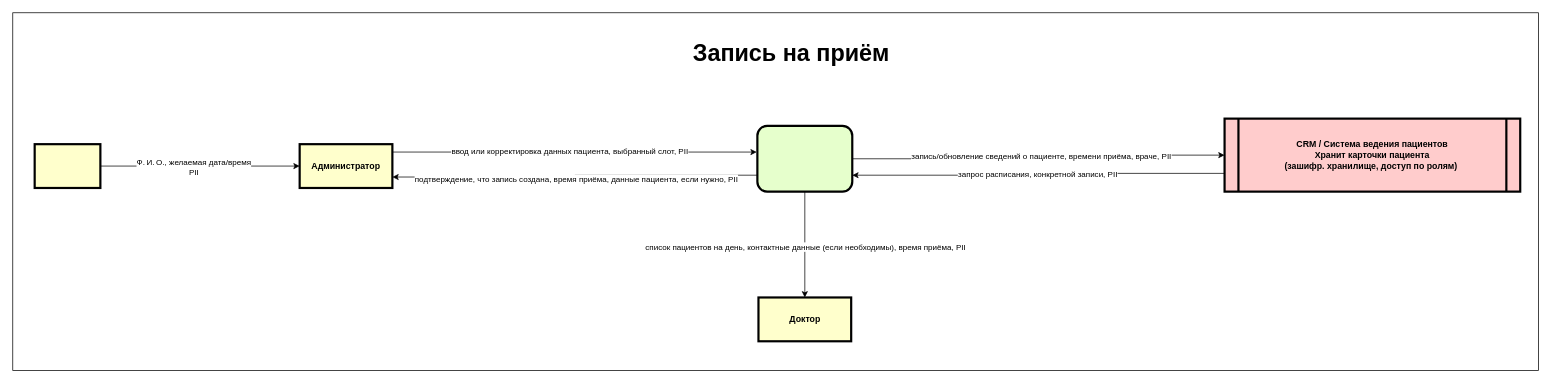
Some shapes in this 1551 by 383 pixel diagram are drawn without their labels. Here are the shapes that lost their labels. From the top down, the box of each, then its label:
(33, 143, 101, 189): Пациент
(756, 124, 853, 192): Process Запись на приём
